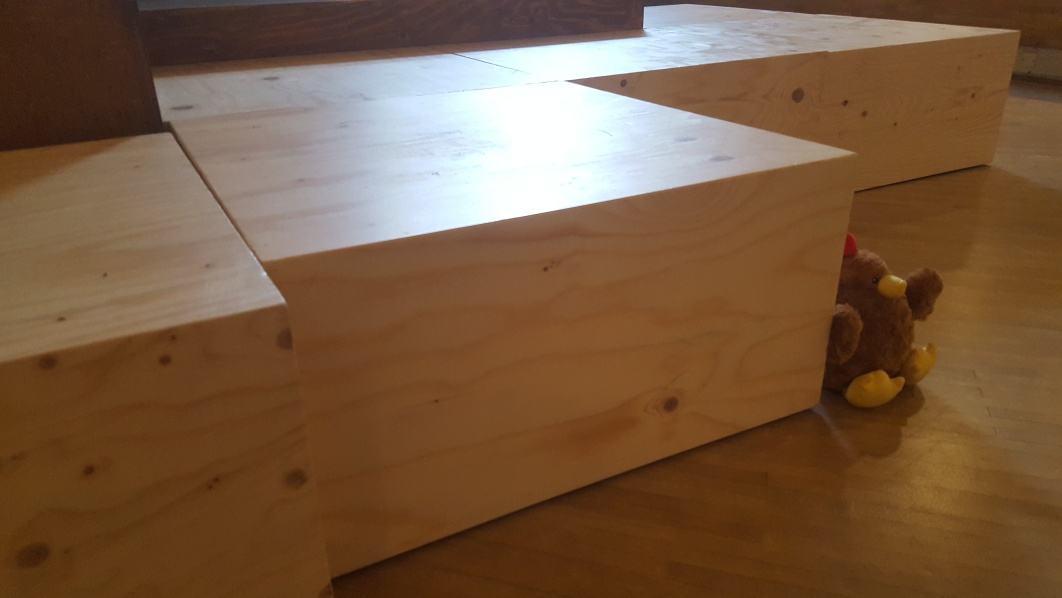chicken: (825, 232, 946, 410)
